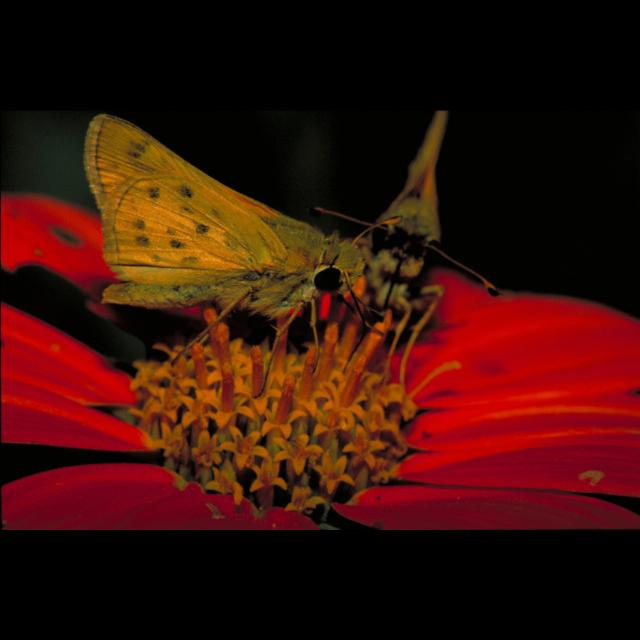Flower: (0, 192, 638, 530)
